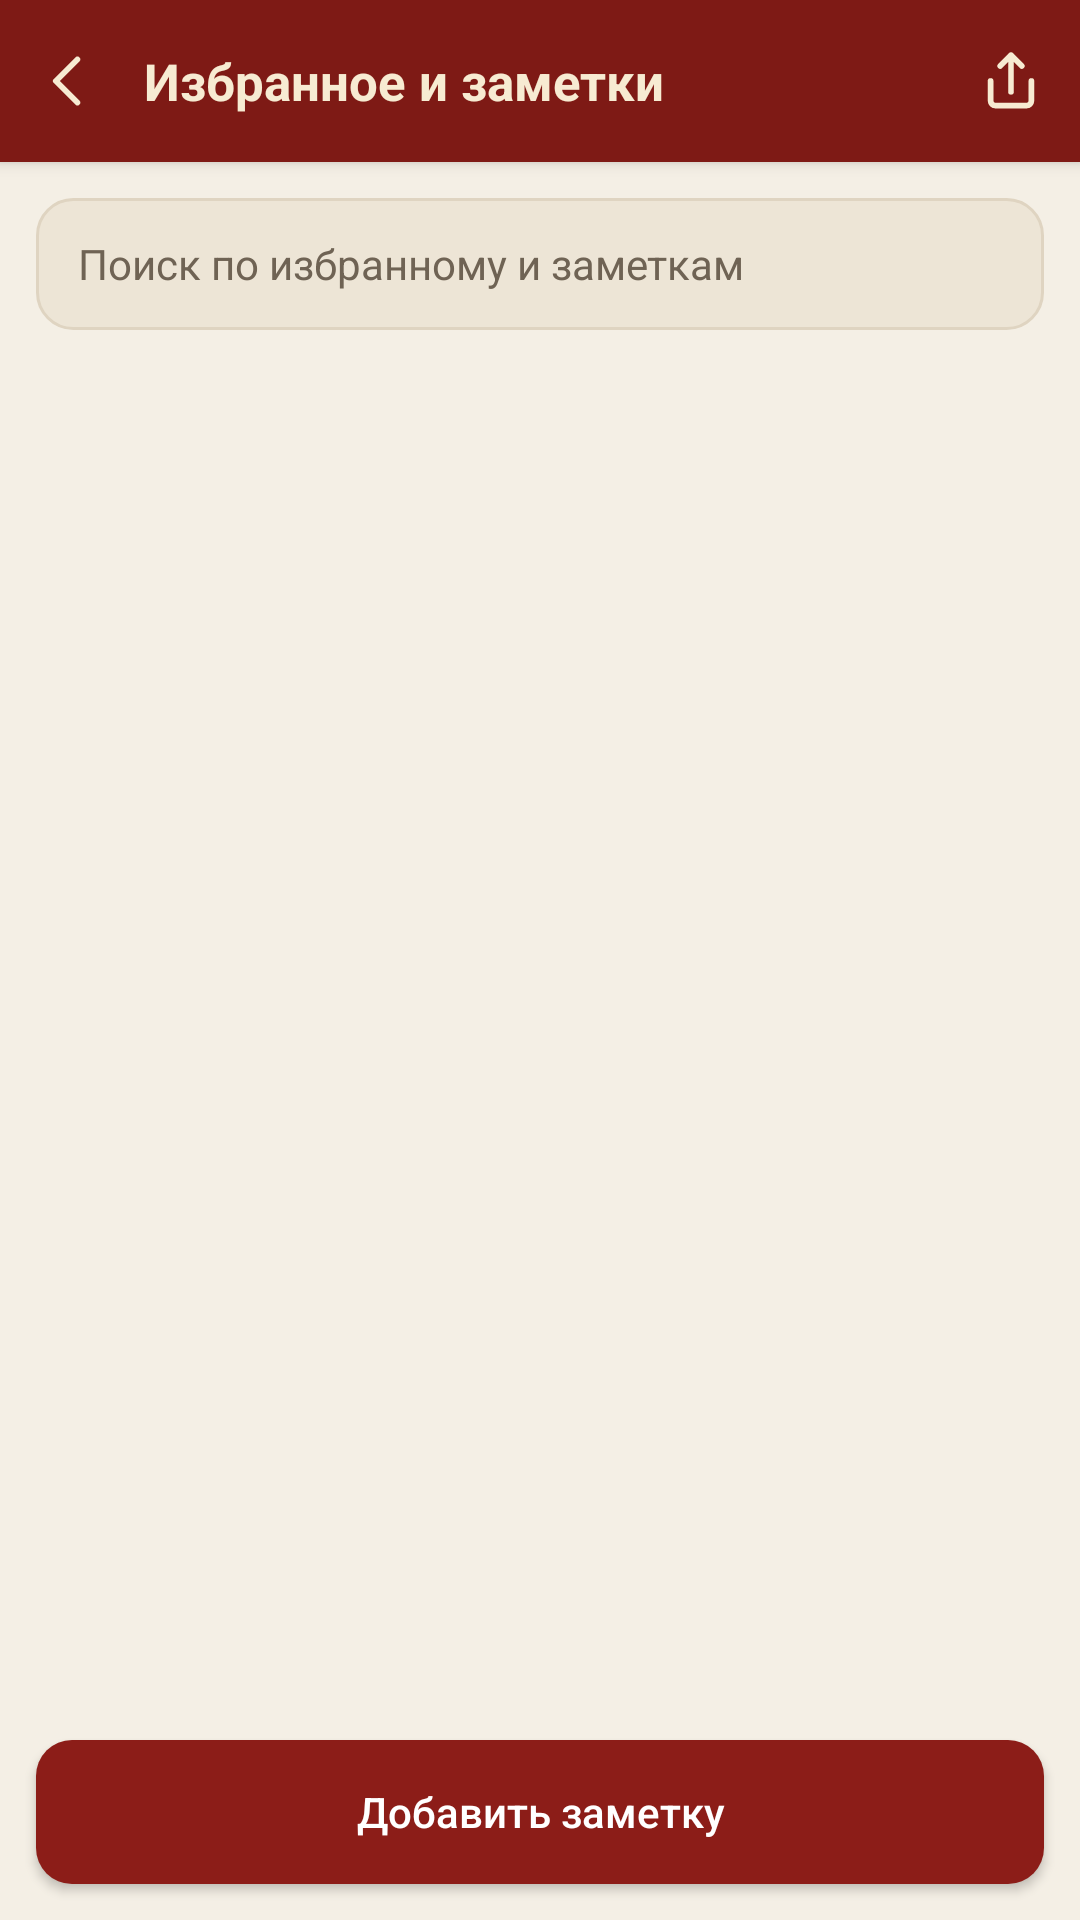

Icon click points for this 1080 × 1920 phone screenshot, format point (x, y):
Назад: point (66, 81)
Экспорт: point (1011, 80)
